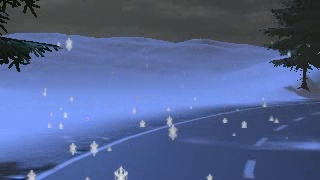Lane: (36, 101, 319, 179)
